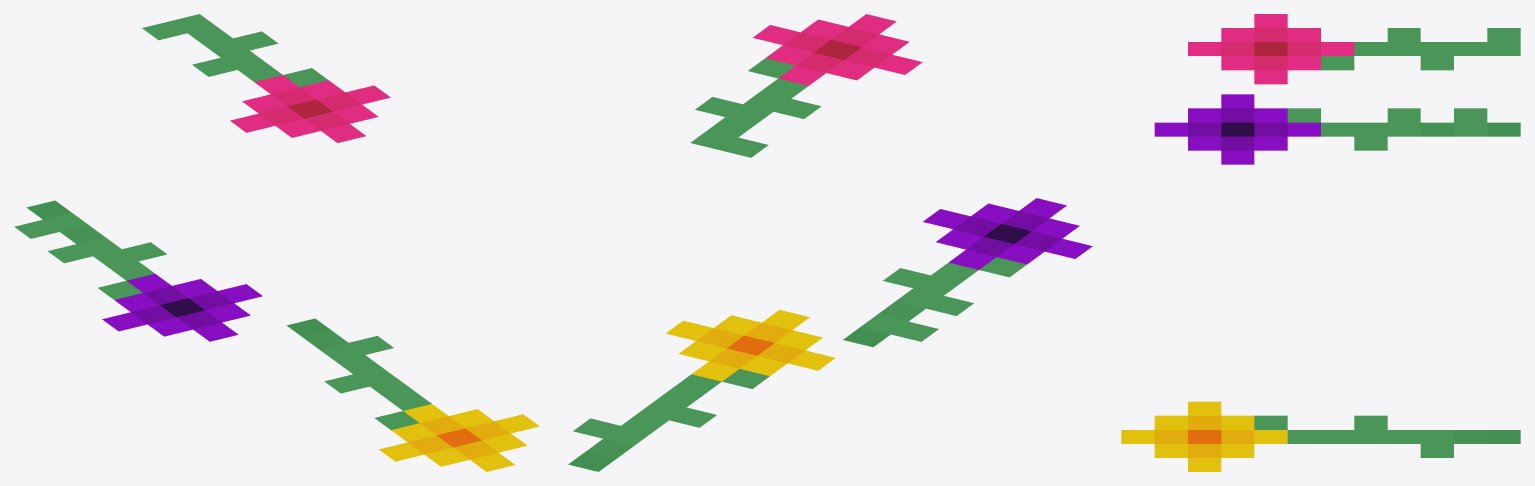
Rendered from flowers.glb.
The picture shows the model from 3 angles, left to right: view 1: azimuth 30°, elevation 25°; view 2: azimuth 150°, elevation 25°; view 3: azimuth 270°, elevation 25°; orthographic projection. The views are drawn at different scales.
Visible parts, largest first — view 1: flowers; view 2: flowers; view 3: flowers.
Part boxes in pixels (bbox=[...]): flowers: bbox=[14, 14, 539, 471]; flowers: bbox=[568, 14, 1092, 471]; flowers: bbox=[1121, 14, 1520, 471].
Size of the model in its own units: 0.875 by 0.6875 by 0.75.
1 material, 1 textured.
